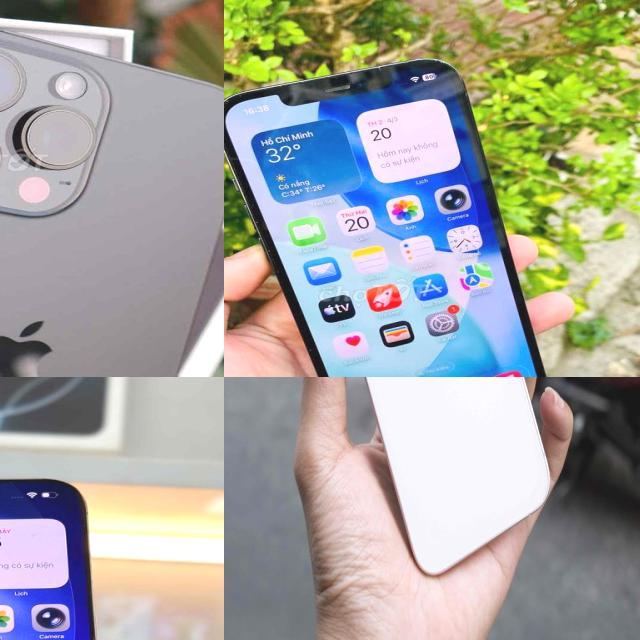gen_12_13: (224, 55, 549, 377)
gen_16: (0, 17, 224, 377), (0, 457, 127, 640)
gen_17: (312, 377, 562, 581)
